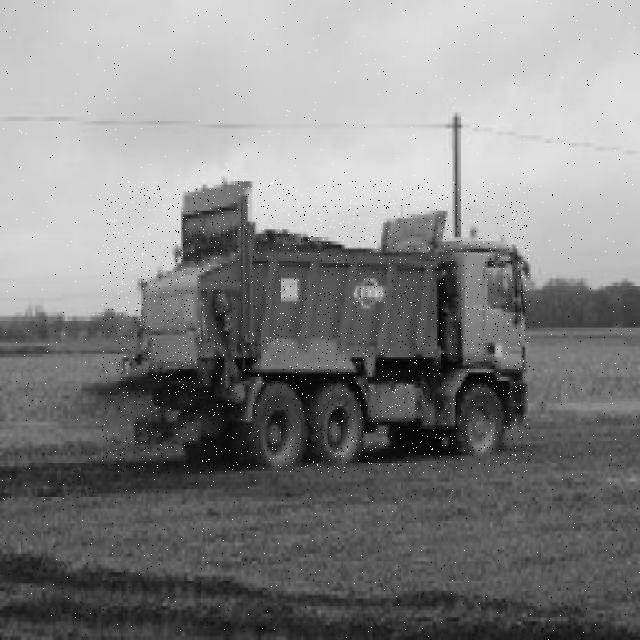Truck- Multi-Axle: (102, 181, 530, 473)
